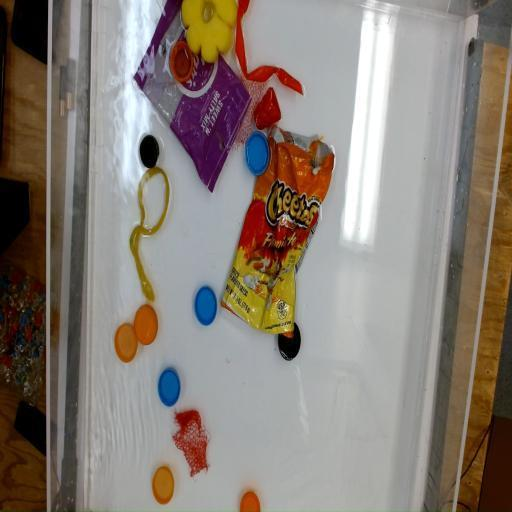Bottle Cap: (246, 129, 272, 176), (113, 324, 138, 366), (192, 284, 217, 326), (276, 322, 302, 362), (171, 38, 194, 82), (158, 366, 182, 408), (134, 304, 158, 344), (152, 464, 175, 504), (140, 132, 159, 167), (239, 490, 261, 512)
Cone Cap: (249, 86, 287, 128)
Netting: (171, 404, 211, 480), (226, 80, 264, 151)
Plastic Bag: (220, 124, 336, 342), (132, 0, 252, 195)
Plastic Strand: (233, 0, 305, 100), (128, 168, 172, 306)
Sponge: (180, 0, 238, 67)
